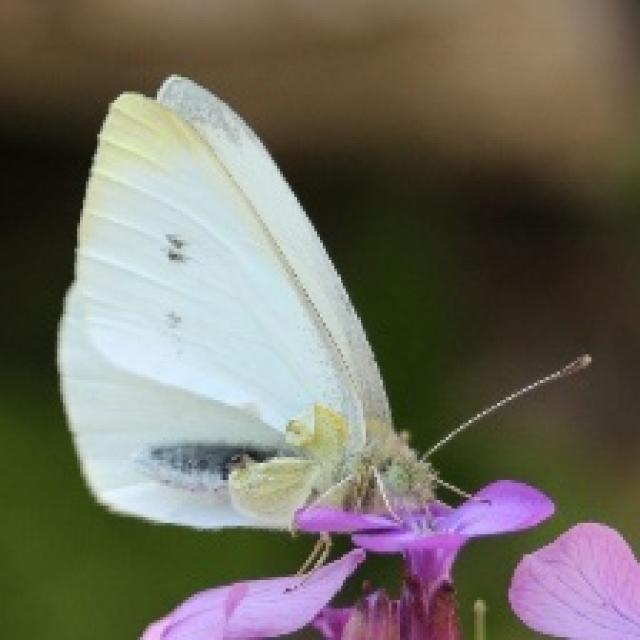butterfly: (51, 69, 592, 592)
